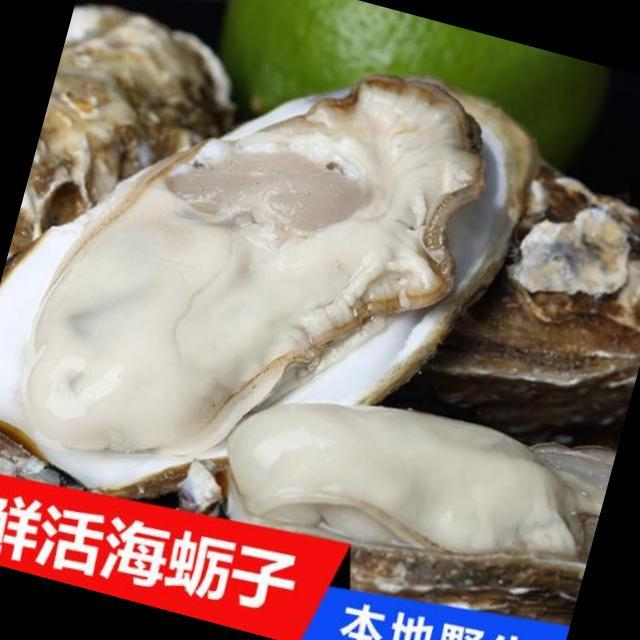Oyster- Indeterminate: (377, 112, 640, 457), (1, 0, 247, 320)
Oyster-Open: (0, 0, 556, 589), (201, 351, 617, 640)
